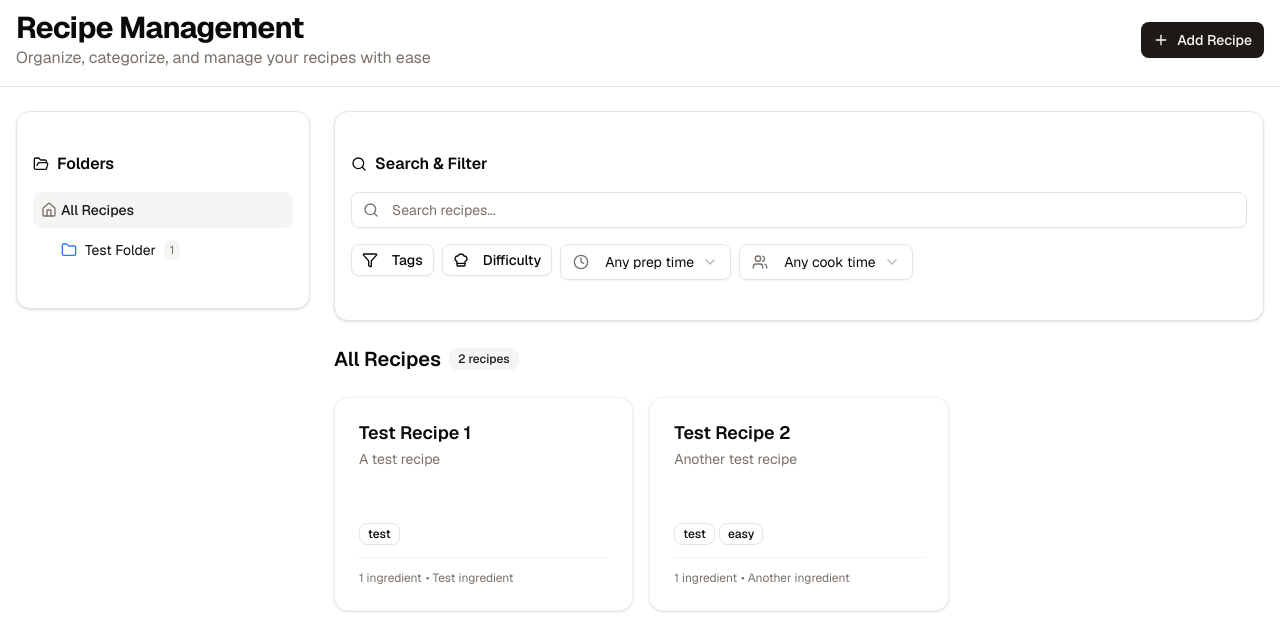
Test case: Home Page › filters recipes by selected folder
The width and height of the screenshot is (1280, 629).
# Click on test folder
Click the text "Test Folder": click(120, 250) [85,240,156,260]
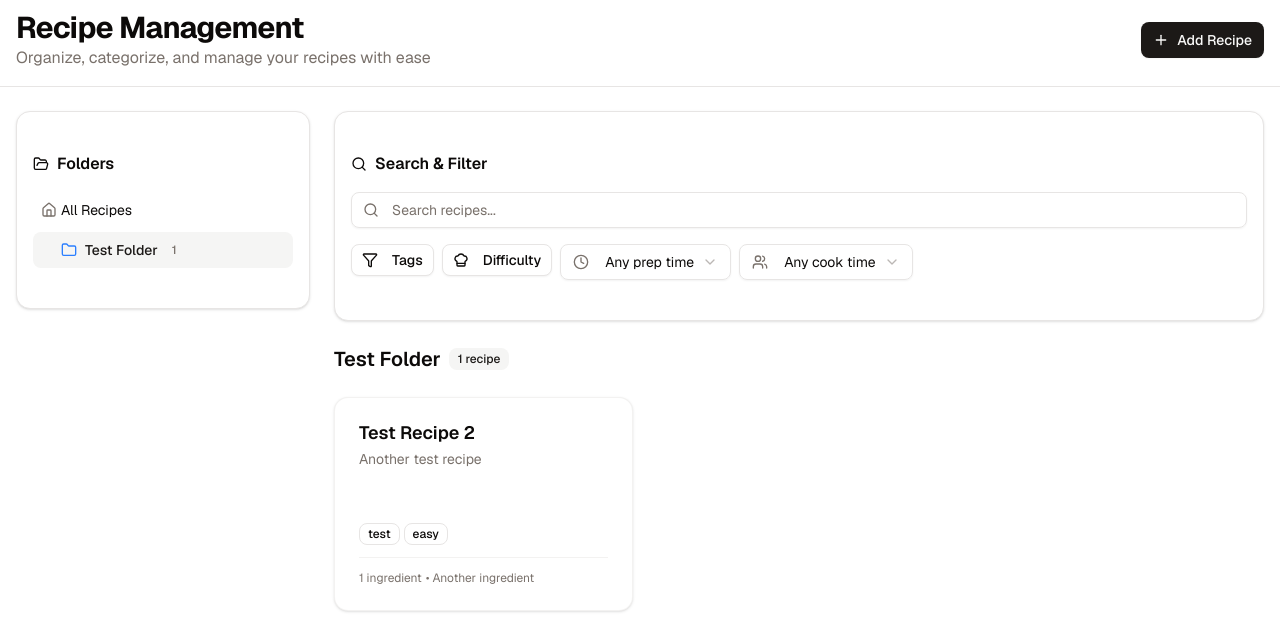
Now the heading "Test Folder" is shown, box [334,345,441,373]
Now the text "1 recipe" is shown, box [449,348,509,370]
